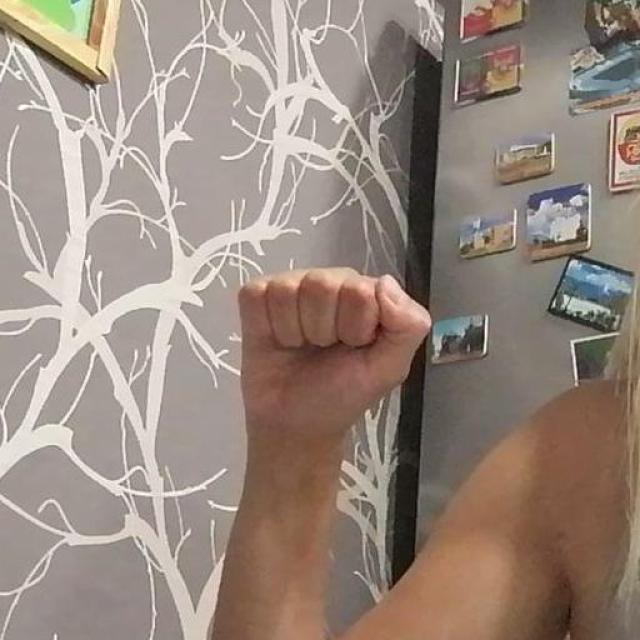hand: (237, 264, 432, 438)
